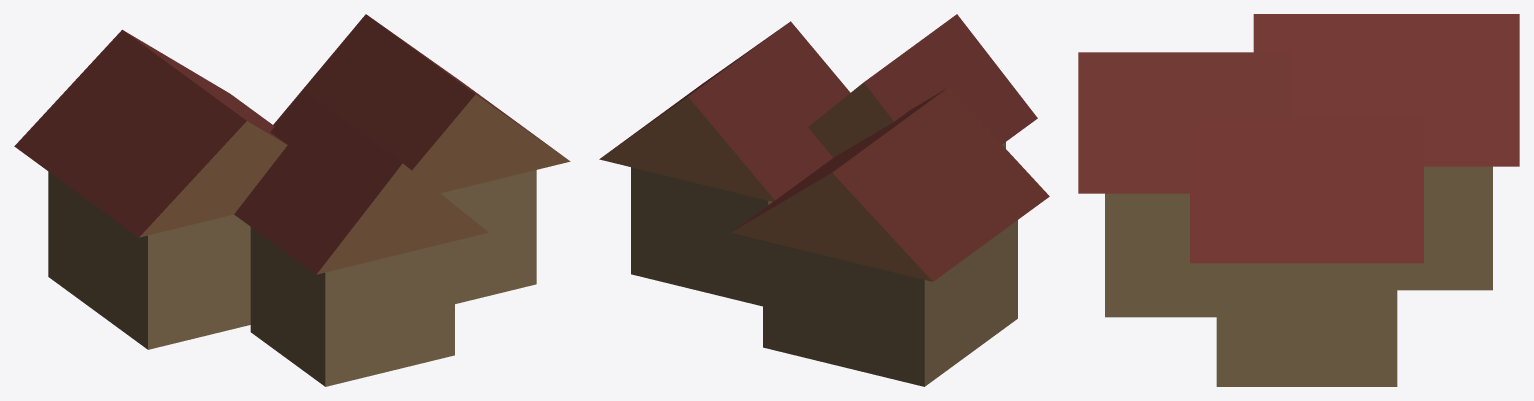
File: ow_town.glb
The picture shows the model from 3 angles, left to right: view 1: azimuth 30°, elevation 25°; view 2: azimuth 150°, elevation 25°; view 3: azimuth 270°, elevation 25°; orthographic projection. The views are drawn at different scales.
Parts seen in each view (by area): view 1: scenery; view 2: scenery; view 3: scenery.
Boxes of the visible parts, box(x1,y1,x2,y2) form: scenery: box(14, 14, 570, 386); scenery: box(599, 14, 1049, 386); scenery: box(1078, 14, 1519, 386).
Size of the model in its own units: 0.93 by 0.48 by 0.83.
